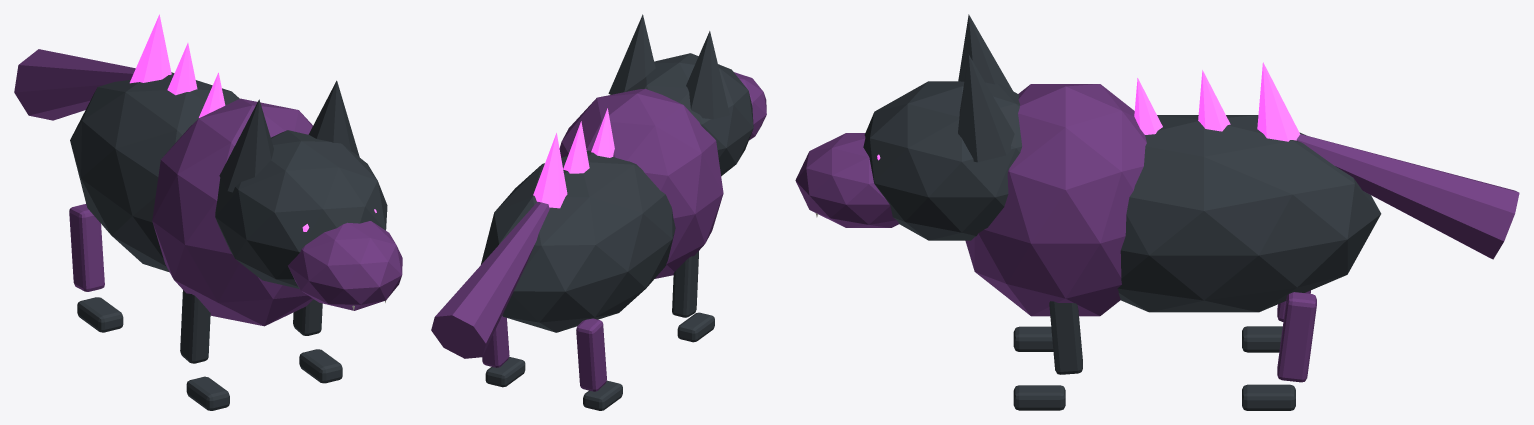
The model's file is rift_hound.glb.
The picture shows the model from 3 angles, left to right: view 1: azimuth 30°, elevation 25°; view 2: azimuth 150°, elevation 25°; view 3: azimuth 270°, elevation 25°; orthographic projection. The views are drawn at different scales.
Parts seen in each view (by area): view 1: Chest, Head, Body, Muzzle, Tail, BackLegL, EarL, FrontLegL, EarR, RiftSpine2, PawBackL, PawFrontR (+4 smaller); view 2: Body, Chest, Tail, Head, EarL, BackLegL, EarR, RiftSpine2, FrontLegL, BackLegR, Muzzle, PawFrontL (+4 smaller); view 3: Body, Chest, Head, Tail, Muzzle, EarR, BackLegR, FrontLegR, RiftSpine2, EarL, PawBackR, PawFrontR (+4 smaller).
Boxes of the visible parts, bbox=[...] form: Chest: bbox=[152, 98, 313, 326]; Head: bbox=[215, 130, 387, 288]; Body: bbox=[70, 72, 239, 272]; Muzzle: bbox=[288, 221, 402, 310]; Tail: bbox=[14, 49, 135, 120]; BackLegL: bbox=[69, 204, 104, 291]; EarL: bbox=[219, 99, 273, 192]; FrontLegL: bbox=[180, 290, 210, 363]; EarR: bbox=[308, 80, 359, 157]; RiftSpine2: bbox=[129, 14, 171, 83]; PawBackL: bbox=[77, 297, 123, 332]; PawFrontR: bbox=[299, 349, 342, 383]; Body: bbox=[481, 150, 675, 332]; Chest: bbox=[559, 88, 723, 278]; Tail: bbox=[431, 201, 549, 358]; Head: bbox=[625, 53, 753, 176]; EarL: bbox=[686, 31, 729, 119]; BackLegL: bbox=[576, 318, 606, 391]; EarR: bbox=[608, 14, 655, 94]; RiftSpine2: bbox=[533, 133, 567, 208]; FrontLegL: bbox=[672, 251, 698, 317]; BackLegR: bbox=[482, 315, 509, 367]; Muzzle: bbox=[734, 72, 766, 140]; PawFrontL: bbox=[677, 312, 714, 342]; Body: bbox=[1117, 115, 1381, 312]; Chest: bbox=[965, 84, 1146, 316]; Head: bbox=[863, 81, 1022, 240]; Tail: bbox=[1296, 134, 1519, 259]; Muzzle: bbox=[795, 133, 898, 227]; EarR: bbox=[958, 54, 1014, 162]; BackLegR: bbox=[1277, 292, 1316, 382]; FrontLegR: bbox=[1049, 301, 1082, 374]; RiftSpine2: bbox=[1257, 62, 1300, 141]; EarL: bbox=[958, 14, 1012, 90]; PawBackR: bbox=[1242, 384, 1295, 410]; PawFrontR: bbox=[1013, 385, 1065, 410].
Size of the model in its own units: 0.9511 by 1.75 by 3.35.
